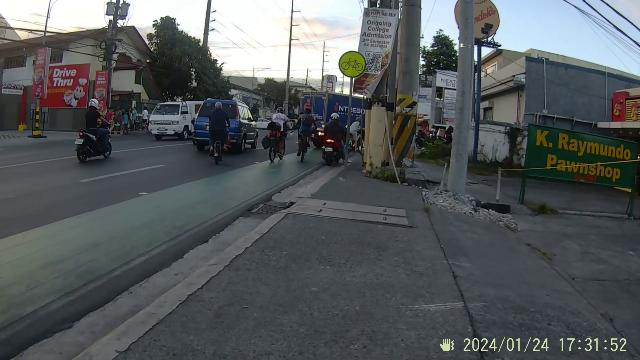street_sign: (338, 50, 367, 174)
utility_post: (368, 2, 420, 172), (281, 0, 303, 88)
